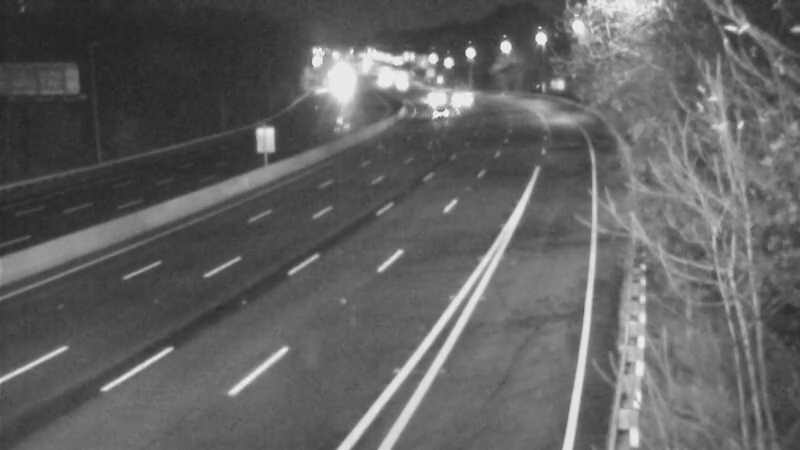vehicle: (408, 72, 458, 122), (440, 73, 490, 123), (413, 88, 463, 138)
